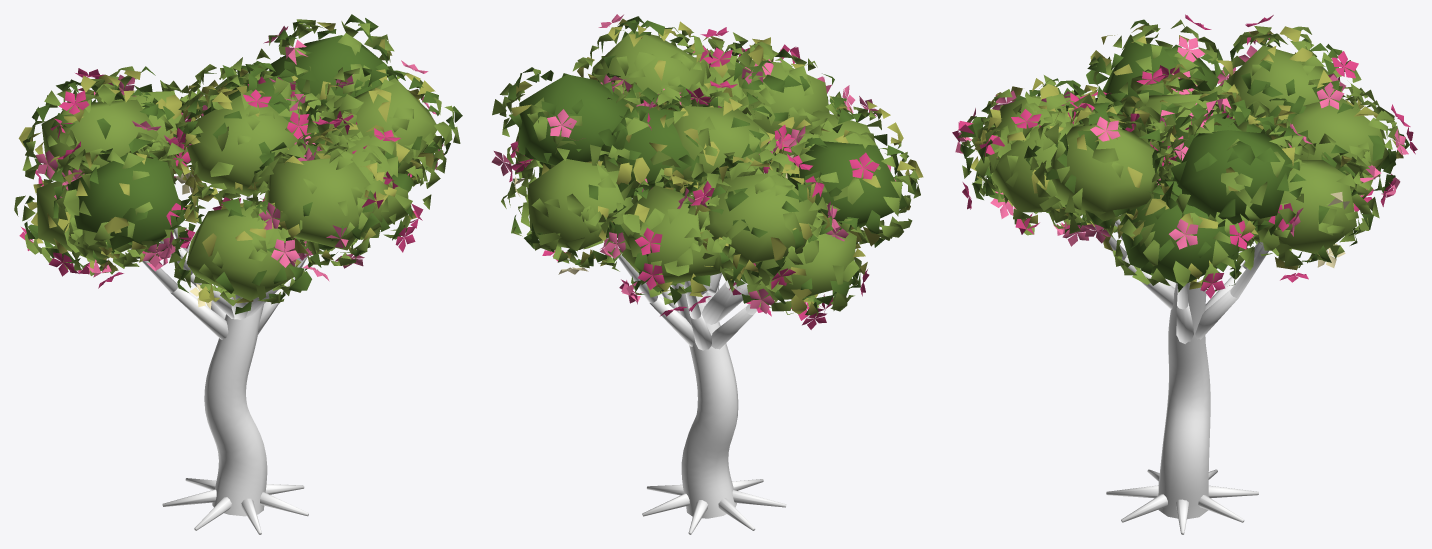
File: FlowerTree_LOD1.glb
The picture shows the model from 3 angles, left to right: view 1: azimuth 30°, elevation 25°; view 2: azimuth 150°, elevation 25°; view 3: azimuth 270°, elevation 25°; orthographic projection. The views are drawn at different scales.
Parts seen in each view (by area): view 1: RK_FlowerTree_LOD1_RK_Leaf, RK_FlowerTree_LOD1_RK_LeafDark, RK_FlowerTree_LOD1_RK_Bark, RK_FlowerTree_LOD1_RK_LeafGold, RK_FlowerTree_LOD1_RK_FlowerPink, RK_FlowerTree_LOD1_RK_FlowerRose; view 2: RK_FlowerTree_LOD1_RK_Leaf, RK_FlowerTree_LOD1_RK_LeafDark, RK_FlowerTree_LOD1_RK_Bark, RK_FlowerTree_LOD1_RK_LeafGold, RK_FlowerTree_LOD1_RK_FlowerPink, RK_FlowerTree_LOD1_RK_FlowerRose; view 3: RK_FlowerTree_LOD1_RK_Leaf, RK_FlowerTree_LOD1_RK_LeafDark, RK_FlowerTree_LOD1_RK_Bark, RK_FlowerTree_LOD1_RK_LeafGold, RK_FlowerTree_LOD1_RK_FlowerRose, RK_FlowerTree_LOD1_RK_FlowerPink.
Part boxes in pixels (box(x1,y1,x2,y2)): RK_FlowerTree_LOD1_RK_Leaf: box(14, 19, 460, 305); RK_FlowerTree_LOD1_RK_LeafDark: box(22, 14, 462, 314); RK_FlowerTree_LOD1_RK_Bark: box(130, 194, 308, 534); RK_FlowerTree_LOD1_RK_LeafGold: box(18, 22, 435, 303); RK_FlowerTree_LOD1_RK_FlowerPink: box(19, 68, 423, 288); RK_FlowerTree_LOD1_RK_FlowerRose: box(36, 26, 444, 281); RK_FlowerTree_LOD1_RK_Leaf: box(492, 26, 920, 314); RK_FlowerTree_LOD1_RK_LeafDark: box(503, 16, 916, 315); RK_FlowerTree_LOD1_RK_Bark: box(598, 160, 786, 534); RK_FlowerTree_LOD1_RK_LeafGold: box(511, 18, 923, 315); RK_FlowerTree_LOD1_RK_FlowerPink: box(509, 27, 879, 329); RK_FlowerTree_LOD1_RK_FlowerRose: box(491, 14, 895, 313); RK_FlowerTree_LOD1_RK_Leaf: box(960, 19, 1404, 287); RK_FlowerTree_LOD1_RK_LeafDark: box(957, 19, 1409, 292); RK_FlowerTree_LOD1_RK_Bark: box(1094, 215, 1268, 534); RK_FlowerTree_LOD1_RK_LeafGold: box(970, 23, 1403, 289); RK_FlowerTree_LOD1_RK_FlowerRose: box(955, 36, 1408, 249); RK_FlowerTree_LOD1_RK_FlowerPink: box(952, 14, 1417, 298).
Bounding box in the file's own units: 5.33 × 5.84 × 5.39.
